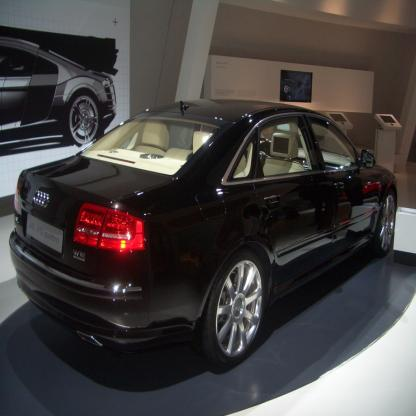Car: (10, 99, 398, 371), (1, 37, 118, 157)
